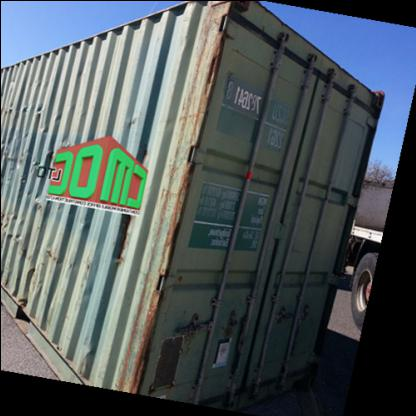Damage: (136, 167, 190, 387), (175, 5, 231, 142), (0, 126, 40, 192), (26, 236, 56, 300), (108, 206, 132, 266), (1, 99, 47, 121), (74, 255, 92, 297), (120, 112, 144, 134), (6, 70, 17, 88)
